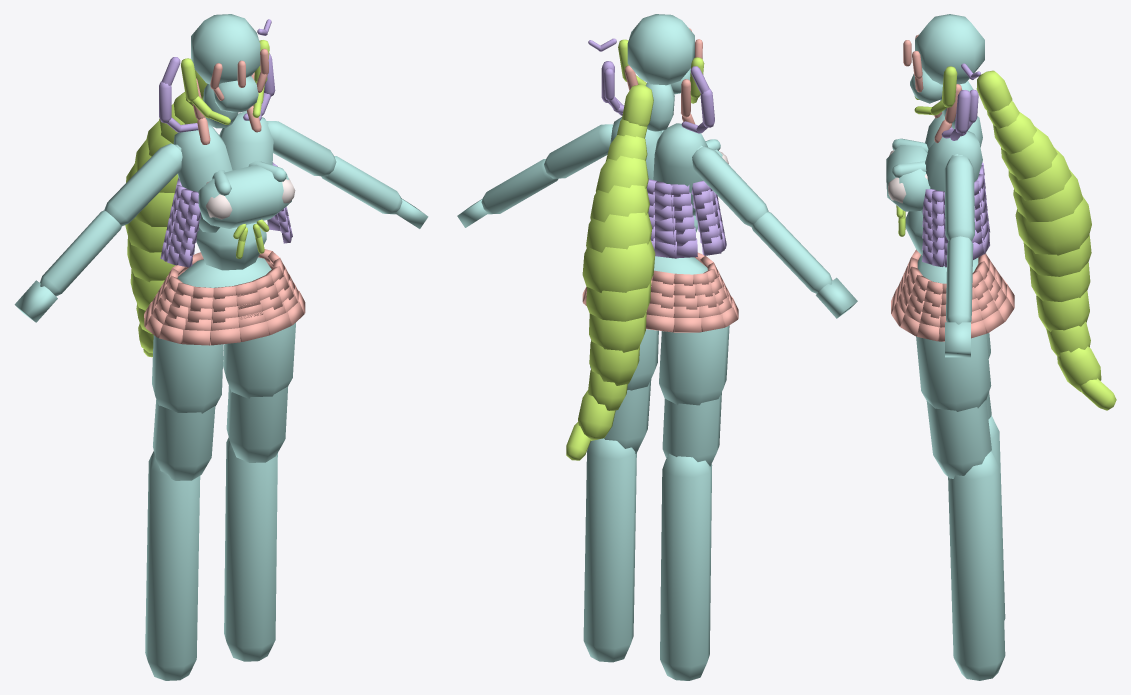
Rendered from Elysia_RigidBodyWorld.fbx.
The picture shows the model from 3 angles, left to right: view 1: azimuth 30°, elevation 25°; view 2: azimuth 150°, elevation 25°; view 3: azimuth 270°, elevation 25°; orthographic projection. The views are drawn at different scales.
Parts seen in each view (by area): view 1: 00E_右ひざ, 00G_左ひざ, 00H_右足1, 00I_左足1, 00D_右足, 00F_左足, 00A_頭_1, 01X_上半身2, 003_右腕, 004_右ひじ, 001_上半身2_1, 006_左腕 (+10 smaller); view 2: 00E_右ひざ, 00G_左ひざ, 00H_右足1, 00A_頭_1, 00D_右足, 00P_辫子_6_1, 003_右腕, 001_上半身2_1, 004_右ひじ, 006_左腕, 00O_辫子_5_1, 00F_左足 (+16 smaller); view 3: 00G_左ひざ, 00I_左足1, 00F_左足, 00A_頭_1, 00P_辫子_6_1, 006_左腕, 007_左ひじ, 002_上半身2_2, 01X_上半身2, 00O_辫子_5_1, 00M_辫子_3_1, 00N_辫子_4_1 (+18 smaller).
Part boxes in pixels (x1,y1,x2,y2): 00E_右ひざ: (145, 451, 200, 680); 00G_左ひざ: (224, 437, 277, 661); 00H_右足1: (152, 335, 223, 413); 00I_左足1: (223, 323, 295, 398); 00D_右足: (153, 399, 215, 480); 00F_左足: (226, 386, 287, 462); 00A_頭_1: (191, 14, 260, 84); 01X_上半身2: (198, 164, 291, 228); 003_右腕: (104, 143, 182, 226); 004_右ひじ: (40, 210, 121, 296); 001_上半身2_1: (173, 124, 232, 232); 006_左腕: (266, 121, 336, 176); 00E_右ひざ: (660, 453, 712, 680); 00G_左ひざ: (583, 438, 636, 662); 00H_右足1: (659, 325, 729, 405); 00A_頭_1: (627, 14, 694, 85); 00D_右足: (662, 392, 721, 466); 00P_辫子_6_1: (582, 239, 655, 292); 003_右腕: (692, 146, 768, 226); 001_上半身2_1: (653, 123, 707, 215); 004_右ひじ: (751, 211, 832, 293); 006_左腕: (544, 124, 613, 178); 00O_辫子_5_1: (586, 212, 652, 252); 00F_左足: (604, 379, 651, 453); 00G_左ひざ: (948, 451, 1005, 680); 00I_左足1: (916, 334, 991, 411); 00F_左足: (926, 400, 991, 478); 00A_頭_1: (915, 14, 984, 84); 00P_辫子_6_1: (1015, 196, 1091, 255); 006_左腕: (944, 155, 974, 241); 007_左ひじ: (946, 236, 973, 324); 002_上半身2_2: (920, 127, 982, 217); 01X_上半身2: (886, 145, 930, 211); 00O_辫子_5_1: (1013, 170, 1082, 222); 00M_辫子_3_1: (1001, 126, 1057, 180); 00N_辫子_4_1: (1008, 147, 1071, 200).
Bounding box in the file's own units: 103 × 163 × 52.69.
